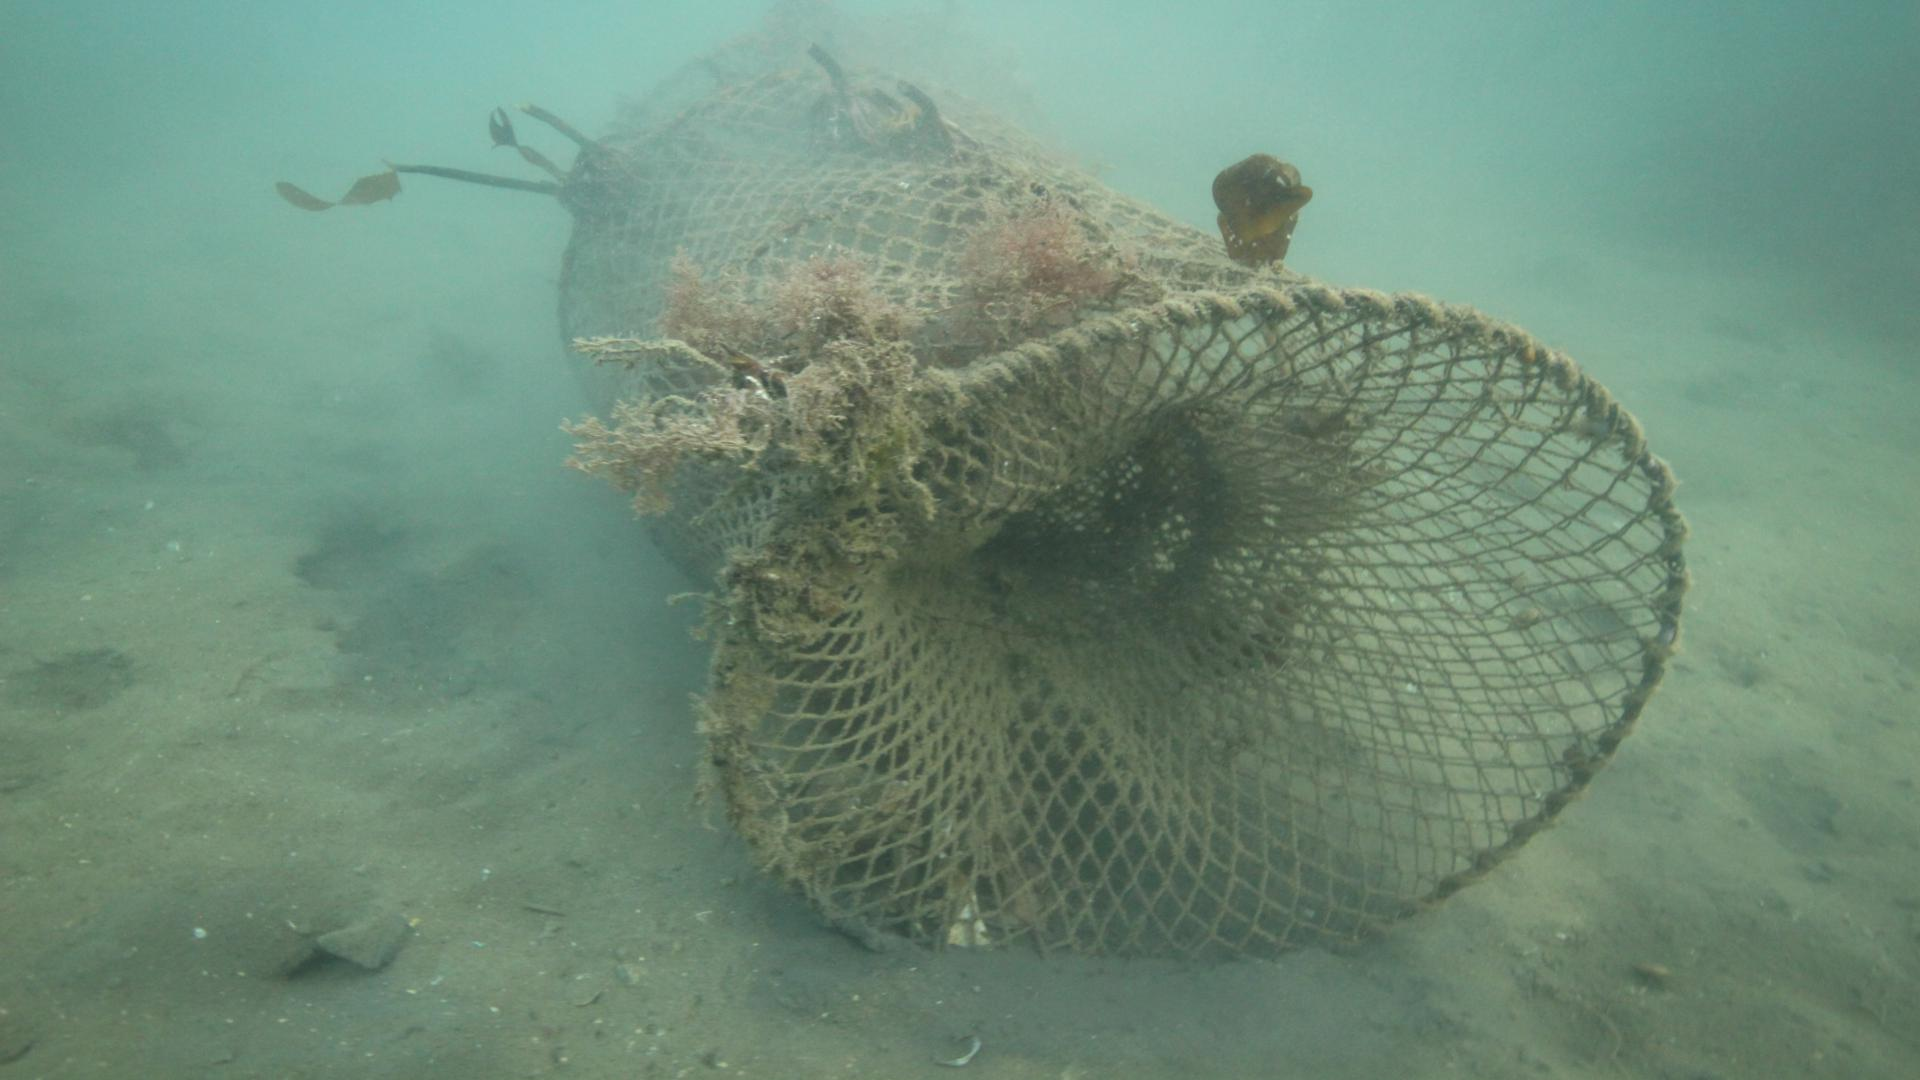spring fish trap: (554, 8, 1688, 960)
